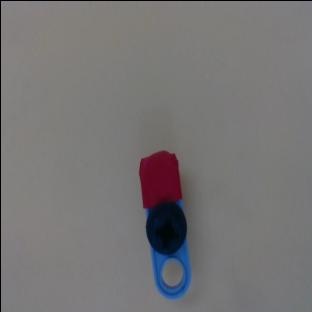part_1_good: (134, 148, 196, 301)
